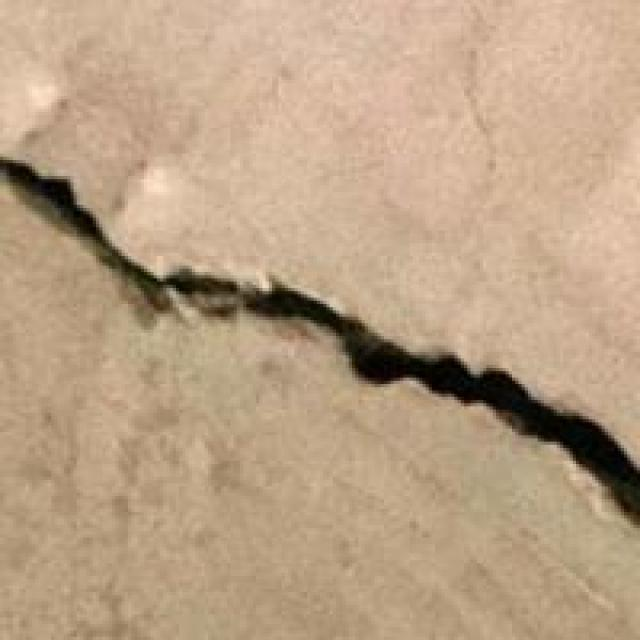crack: (0, 109, 637, 637)
